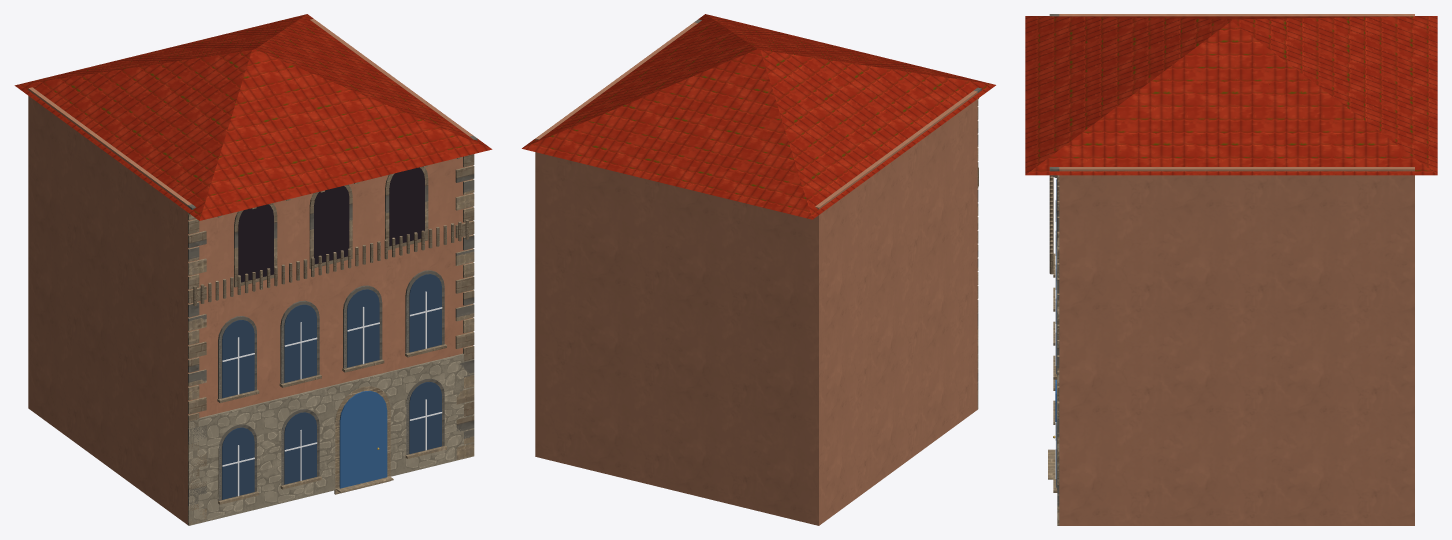
File: palacete_w10_2.gltf
3 views of the same model, side by side, from view 1: azimuth 30°, elevation 25°; view 2: azimuth 150°, elevation 25°; view 3: azimuth 270°, elevation 25° (orthographic). The views are drawn at different scales.
Visible parts, largest first — view 1: palacete_w10_2; view 2: palacete_w10_2; view 3: palacete_w10_2.
Boxes of the visible parts, x1=… form: palacete_w10_2: x1=14, y1=14, x2=492, y2=525; palacete_w10_2: x1=522, y1=14, x2=995, y2=525; palacete_w10_2: x1=1025, y1=14, x2=1437, y2=525.
Size of what is drawn, in the model's own units: 9.96 by 12.62 by 10.9.
Materials: 7 (4 with a texture image).
